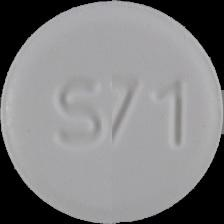0781-5426: (0, 0, 224, 224)
